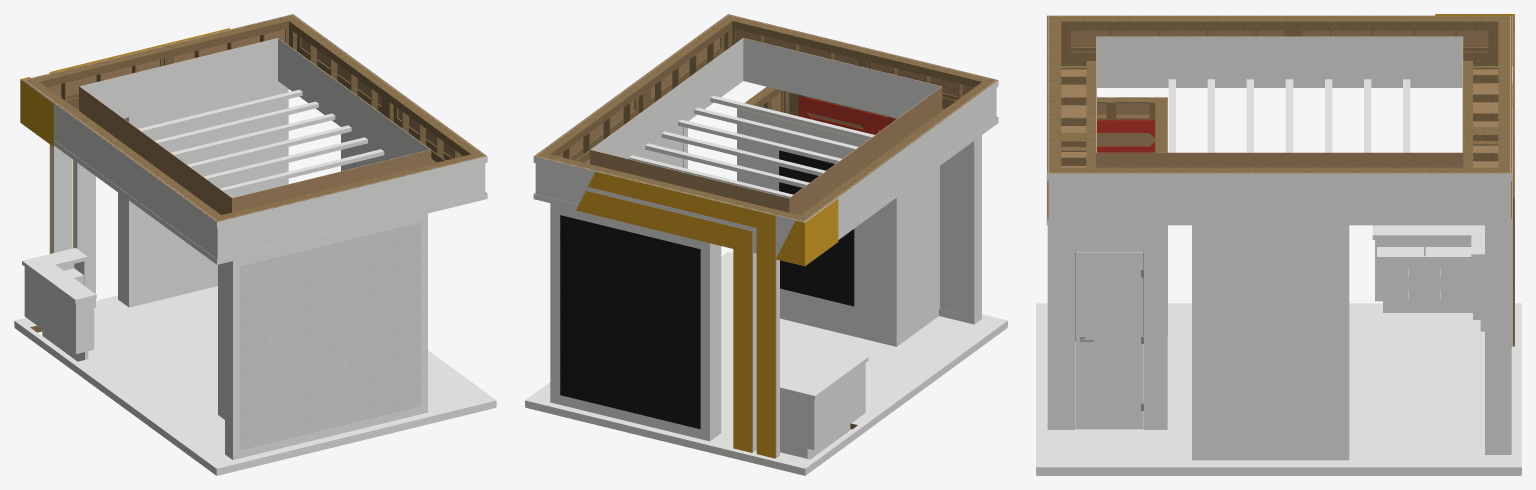
3 renders of one model, left to right at view 1: azimuth 30°, elevation 25°; view 2: azimuth 150°, elevation 25°; view 3: azimuth 270°, elevation 25°, orthographic. The views are drawn at different scales.
Parts seen in each view (by area): view 1: Баннер — цельное полотно 2750х2700х0,5 мм, Баннер 2250×2700×0,1 мм, Настил полистирол — лист 1, Body1 (×13), Передняя сторона — 2812х580х3 мм, Настил полистирол — лист 2, Полистирол 3 — наружное полотно 5, Полистирол 3 — наружное полотно 4, Полистирол 3 — 2433 x 580 x 3 мм (1), Полистирол 3 — наружное полотно 3, РС-Д05 — Наружная облицовка 1, Настил полистирол — лист 5 (+37 smaller); view 2: Лицевая поверхность модуля (×20), Задняя сторона — 2812х580х3 мм, Полистирол 2 — левая панель 1131х2700 мм, Полистирол 2 мм — бок 1069х2700 мм, Настил полистирол — лист 2, Body2 (×7), Настил полистирол — лист 1, Видимая область экрана, ПС-34 — полистирол 2 мм, Полистирол 3 — 2433 x 580 x 3 мм (1), Жёлтая накладка полистирол 268×2700×3 мм — 1, Жёлтая накладка полистирол 268×2700×3 мм — 2 (+44 smaller); view 3: Сторона Б — баннер 1600×2700×0,1 мм, Настил полистирол — лист 3, Полистирол глянцевый 1228х2700х2 мм — стена с дверью, Полистирол белый глянцевый 700х2000х2 мм — дверь, Полистирол 3 — 2433 x 580 x 3 мм, Настил полистирол — лист 1, Полистирол 3 — наружное полотно 7, Полистирол 3 — наружное полотно 6, Полистирол 3 — 1308 x 580 x 3 мм (1), Полистирол — правый торец 2700×271,1×2 мм, Настил полистирол — лист 5, Верхние продольные полосы ДСП 16 (1) (×2) (+29 smaller).
Boxes of the visible parts, bbox=[...] form: Баннер — цельное полотно 2750х2700х0,5 мм: bbox=[240, 222, 420, 450]; Баннер 2250×2700×0,1 мм: bbox=[136, 81, 281, 298]; Настил полистирол — лист 1: bbox=[14, 295, 217, 406]; Body1 (×13): bbox=[115, 90, 384, 473]; Передняя сторона — 2812х580х3 мм: bbox=[80, 38, 277, 118]; Настил полистирол — лист 2: bbox=[132, 386, 350, 468]; Полистирол 3 — наружное полотно 5: bbox=[351, 156, 485, 226]; Полистирол 3 — наружное полотно 4: bbox=[217, 188, 351, 258]; Полистирол 3 — 2433 x 580 x 3 мм (1): bbox=[331, 77, 429, 160]; Полистирол 3 — наружное полотно 3: bbox=[121, 151, 217, 259]; РС-Д05 — Наружная облицовка 1: bbox=[24, 267, 75, 353]; Настил полистирол — лист 5: bbox=[346, 365, 496, 435]; Лицевая поверхность модуля (×20): bbox=[560, 215, 700, 429]; Задняя сторона — 2812х580х3 мм: bbox=[743, 38, 941, 118]; Полистирол 2 — левая панель 1131х2700 мм: bbox=[816, 128, 896, 346]; Полистирол 2 мм — бок 1069х2700 мм: bbox=[896, 166, 939, 346]; Настил полистирол — лист 2: bbox=[790, 314, 1007, 382]; Body2 (×7): bbox=[645, 96, 906, 473]; Настил полистирол — лист 1: bbox=[671, 349, 923, 468]; Видимая область экрана: bbox=[779, 150, 854, 306]; ПС-34 — полистирол 2 мм: bbox=[940, 146, 967, 315]; Полистирол 3 — 2433 x 580 x 3 мм (1): bbox=[644, 38, 743, 153]; Жёлтая накладка полистирол 268×2700×3 мм — 1: bbox=[756, 255, 775, 458]; Жёлтая накладка полистирол 268×2700×3 мм — 2: bbox=[733, 249, 752, 452]; Сторона Б — баннер 1600×2700×0,1 мм: bbox=[1201, 230, 1339, 451]; Настил полистирол — лист 3: bbox=[1336, 381, 1521, 467]; Полистирол глянцевый 1228х2700х2 мм — стена с дверью: bbox=[1047, 225, 1167, 429]; Полистирол белый глянцевый 700х2000х2 мм — дверь: bbox=[1075, 252, 1143, 429]; Полистирол 3 — 2433 x 580 x 3 мм: bbox=[1097, 36, 1334, 87]; Настил полистирол — лист 1: bbox=[1349, 303, 1521, 381]; Полистирол 3 — наружное полотно 7: bbox=[1279, 181, 1510, 218]; Полистирол 3 — наружное полотно 6: bbox=[1049, 181, 1279, 218]; Полистирол 3 — 1308 x 580 x 3 мм (1): bbox=[1334, 36, 1462, 87]; Полистирол — правый торец 2700×271,1×2 мм: bbox=[1485, 225, 1511, 454]; Настил полистирол — лист 5: bbox=[1036, 381, 1150, 467]; Верхние продольные полосы ДСП 16 (1) (×2): bbox=[1061, 21, 1498, 30].
Bounding box in the file's own units: 3.99 × 3.39 × 4.97.
18 materials, 3 textured.
